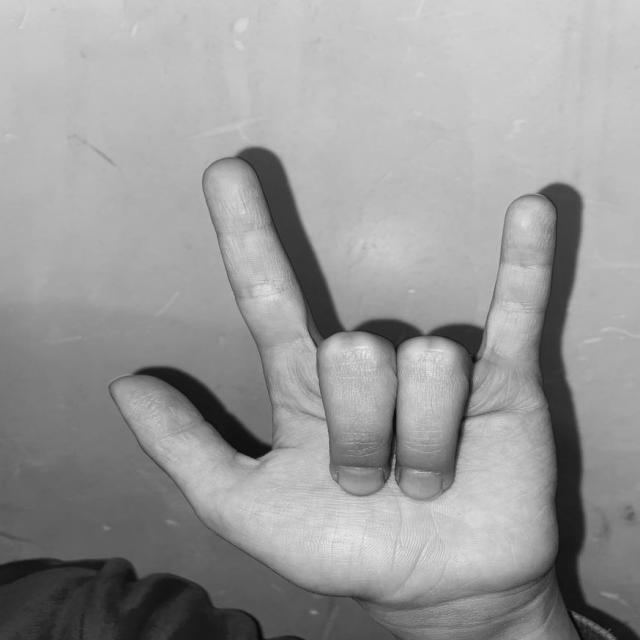i love you: (100, 146, 576, 611)
